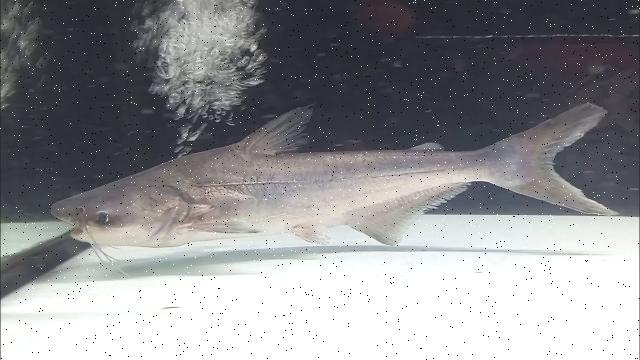Mulut: (38, 201, 102, 253)
Sirip Anal: (344, 173, 476, 251)
Sirip Dada: (170, 190, 264, 250)
Sirip Ekor: (502, 102, 622, 226)
Sirip Perut: (288, 212, 336, 253)
Sirip Punggung: (244, 100, 320, 163)
